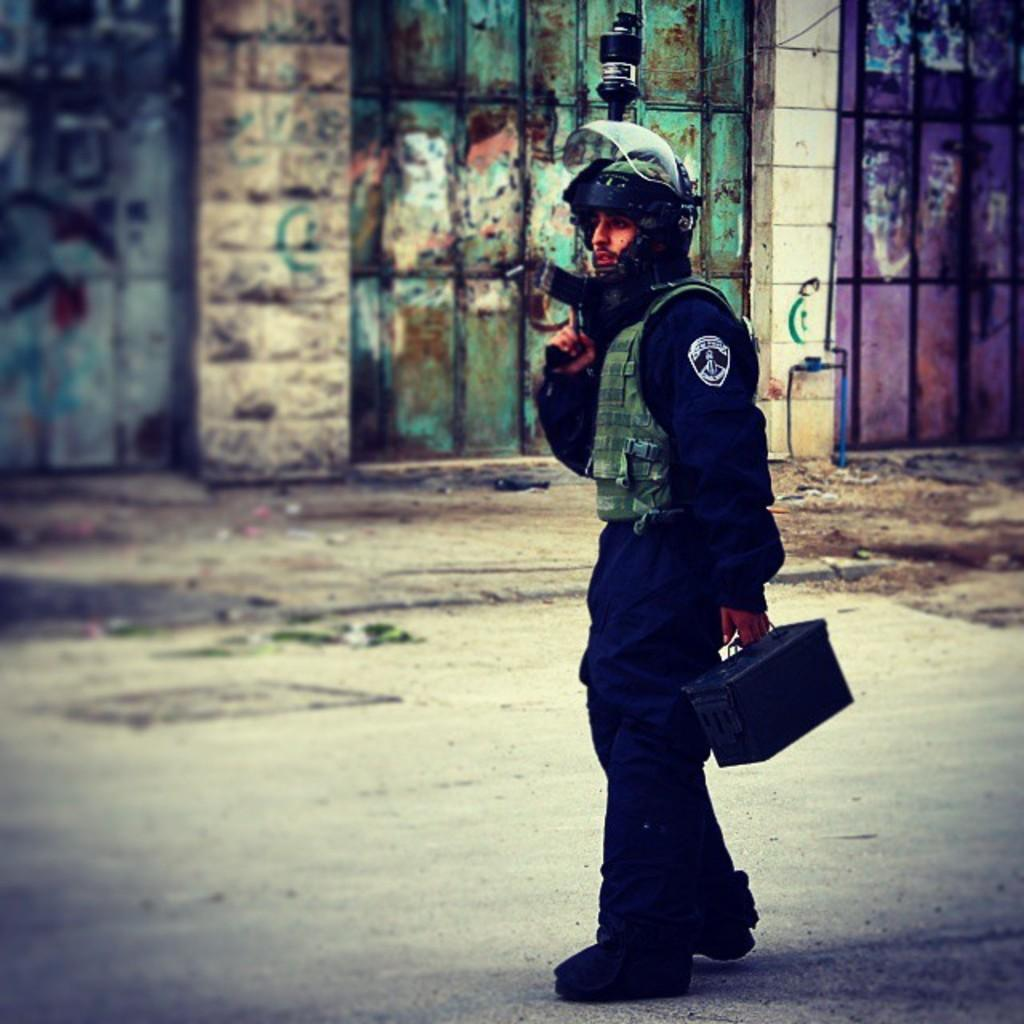helmet: (561, 119, 698, 285)
